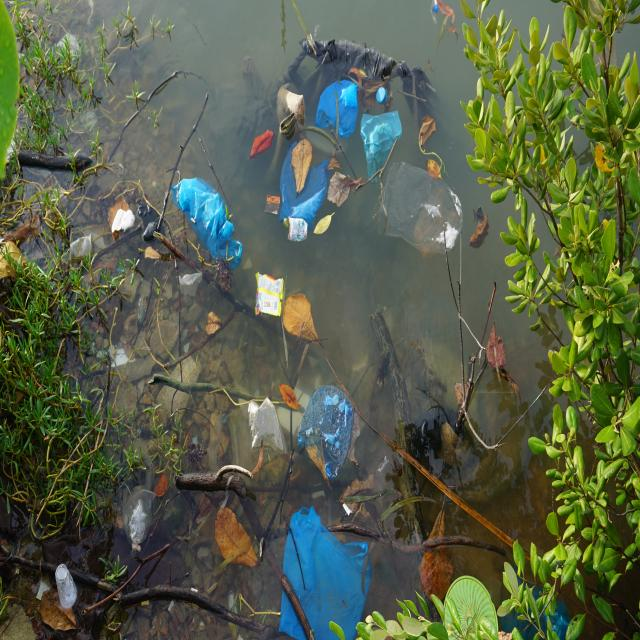Bungkus Makanan: (255, 270, 289, 327)
Bungkus Minuman: (52, 563, 81, 613), (70, 233, 96, 262), (288, 215, 310, 247)
Kantong Plastik: (280, 499, 374, 640), (166, 174, 246, 282), (378, 161, 465, 258), (296, 382, 357, 485), (227, 397, 291, 481), (279, 141, 335, 229), (120, 477, 164, 560), (361, 109, 405, 184), (317, 77, 360, 142)
